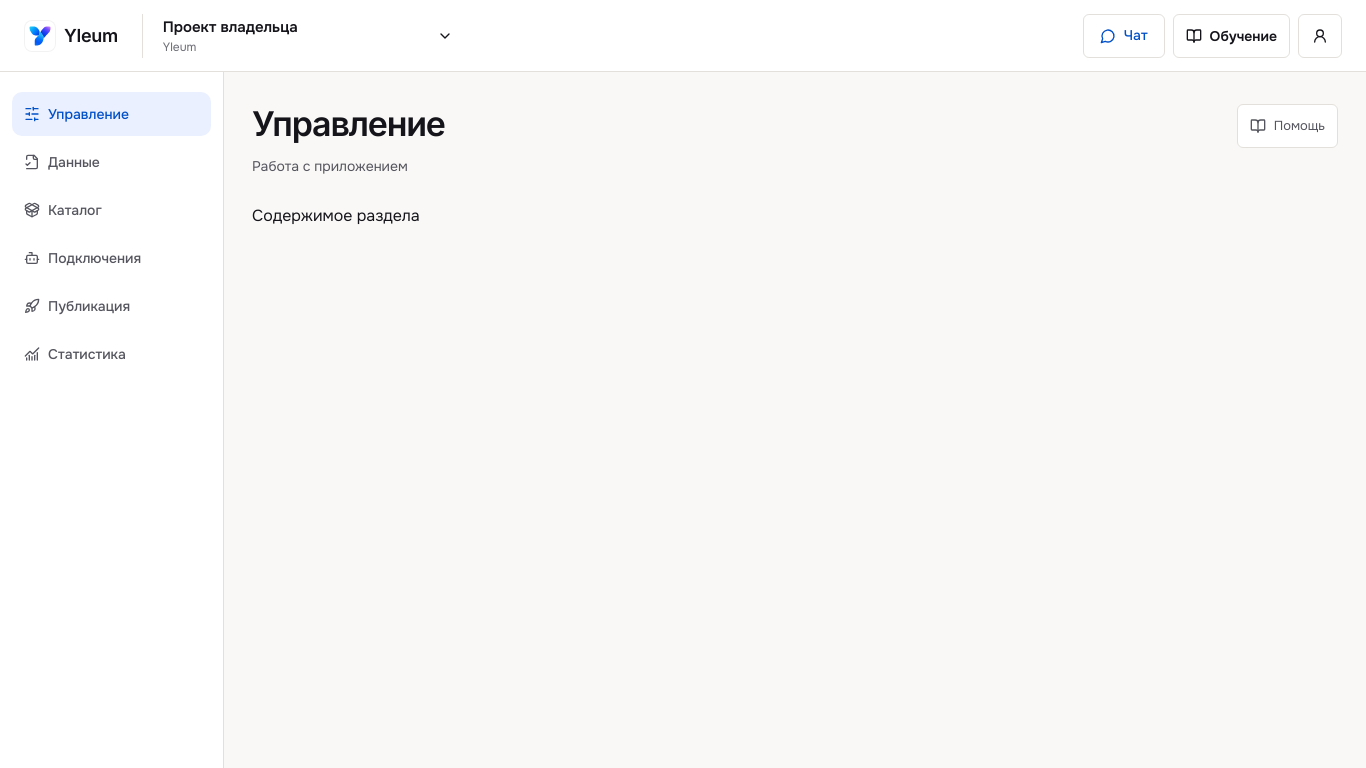
shared MAX project identity and navigation › recovers a failed project list while keeping account navigation available
Click the button with test id "max-navigation-open" at x=230, y=26, box x1=155 y1=12 x2=461 y2=58
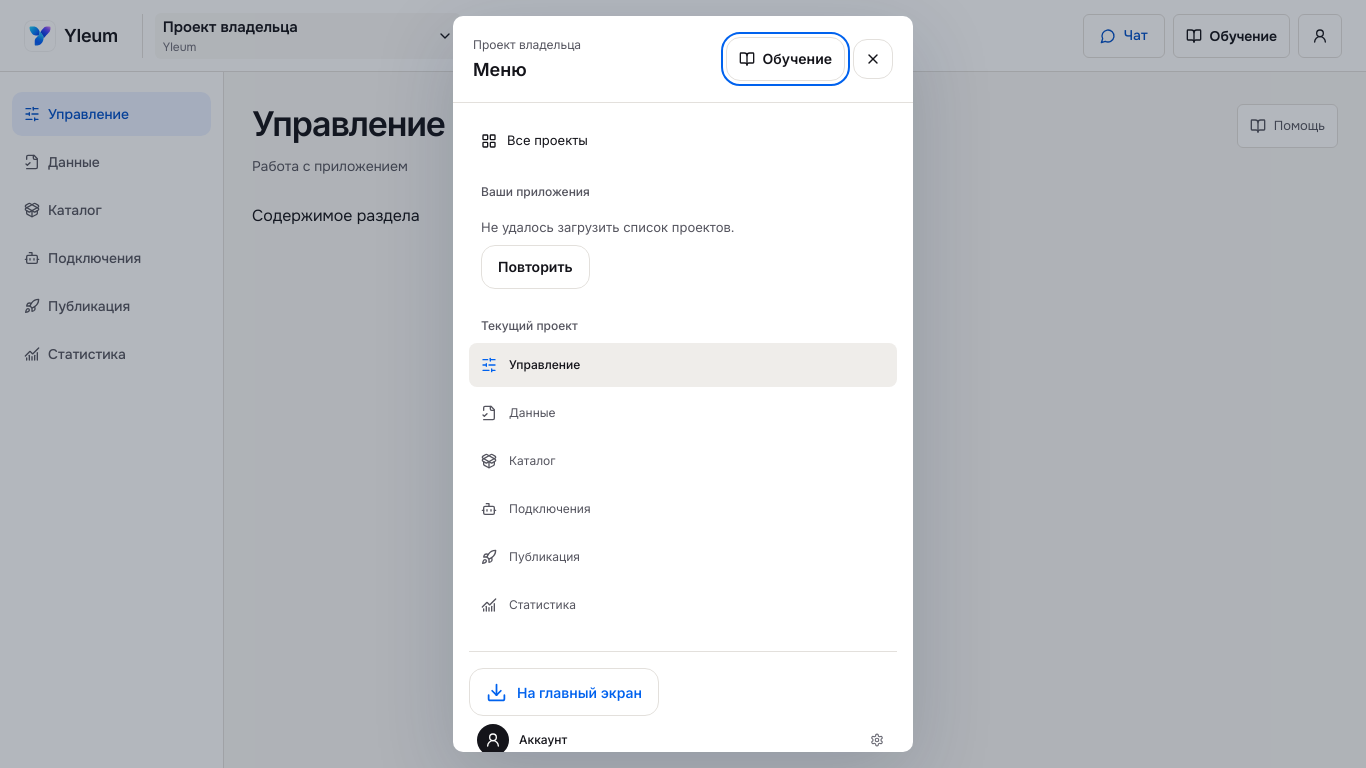
Expected: the dialog is shown, x1=453 y1=16 x2=913 y2=752
Expected: the text "Не удалось загрузить список проектов." is shown, x1=481 y1=219 x2=735 y2=235
Expected: the button with test id "max-account-menu-trigger" reads "Аккаунт", x1=469 y1=716 x2=897 y2=752
Click the button "Повторить" at x=535, y=267, box x1=481 y1=245 x2=590 y2=289
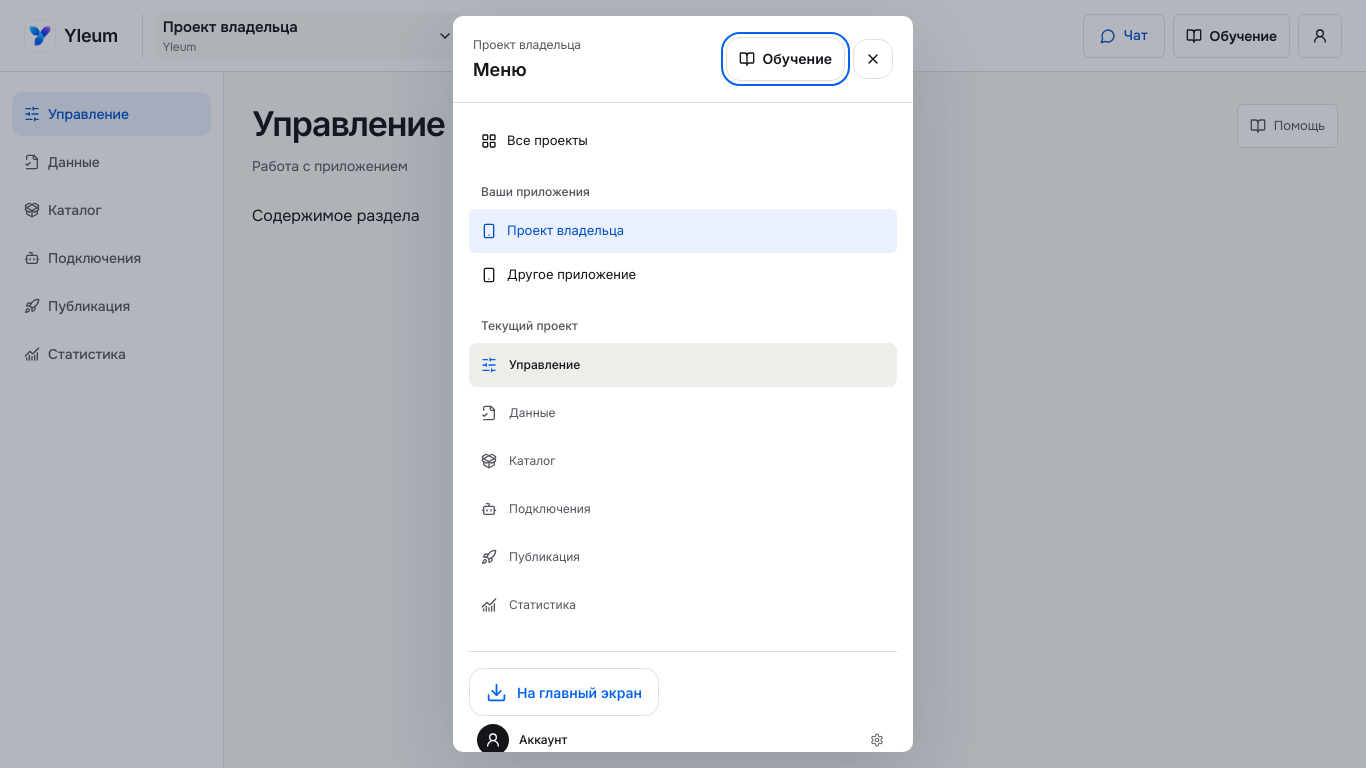
Expected: the link to "/max/other" is shown, x1=481 y1=266 x2=636 y2=283
